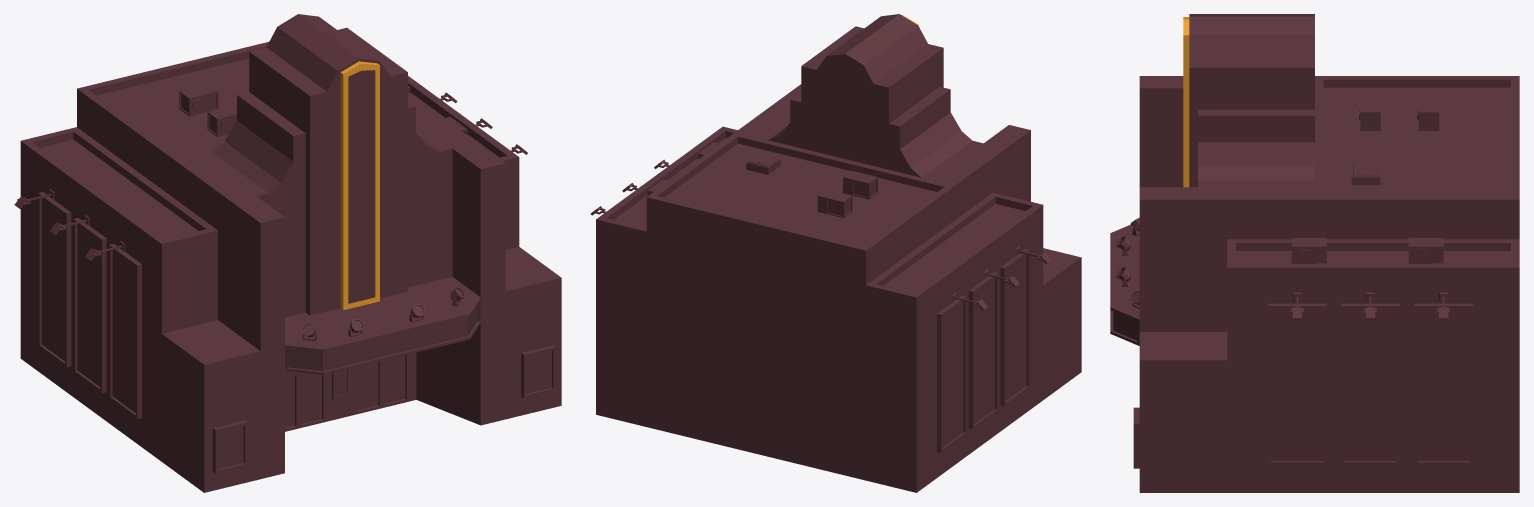
The model's file is building-cinema.fbx.
3 views of the same model, side by side, from view 1: azimuth 30°, elevation 25°; view 2: azimuth 150°, elevation 25°; view 3: azimuth 270°, elevation 25° (orthographic). The views are drawn at different scales.
Parts seen in each view (by area): view 1: building-cinema; view 2: building-cinema; view 3: building-cinema.
Part boxes in pixels (box(x1,y1,x2,y2)): building-cinema: box(14, 14, 561, 492); building-cinema: box(590, 14, 1081, 492); building-cinema: box(1110, 14, 1519, 492).
Bounding box in the file's own units: 17.92 × 14.58 × 14.
